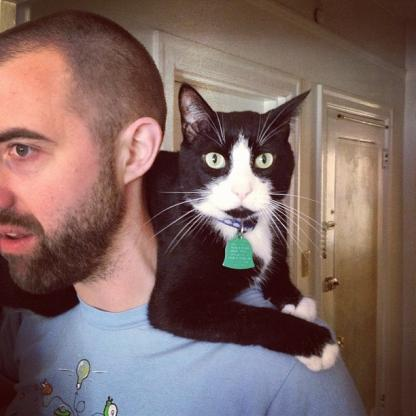Target: (122, 83, 347, 374)
